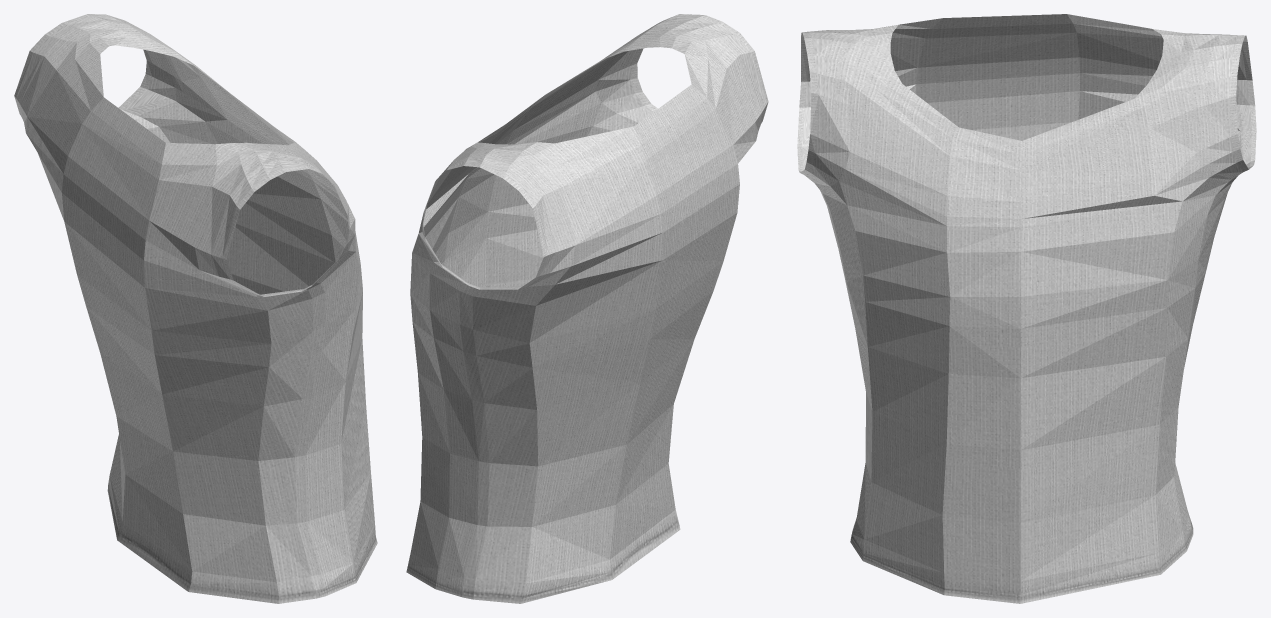
Rendered from t shirt.fbx.
3 views of the same model, side by side, from view 1: azimuth 30°, elevation 25°; view 2: azimuth 150°, elevation 25°; view 3: azimuth 270°, elevation 25° (orthographic). The views are drawn at different scales.
Parts seen in each view (by area): view 1: t_shirt; view 2: t_shirt; view 3: t_shirt.
Part boxes in pixels (left/top/right/bottom): t_shirt: left=14, top=14, right=377, bottom=603; t_shirt: left=406, top=14, right=768, bottom=603; t_shirt: left=797, top=14, right=1256, bottom=603.
Bounding box in the file's own units: 75.73 × 127 × 110.
2 materials, 2 textured.
